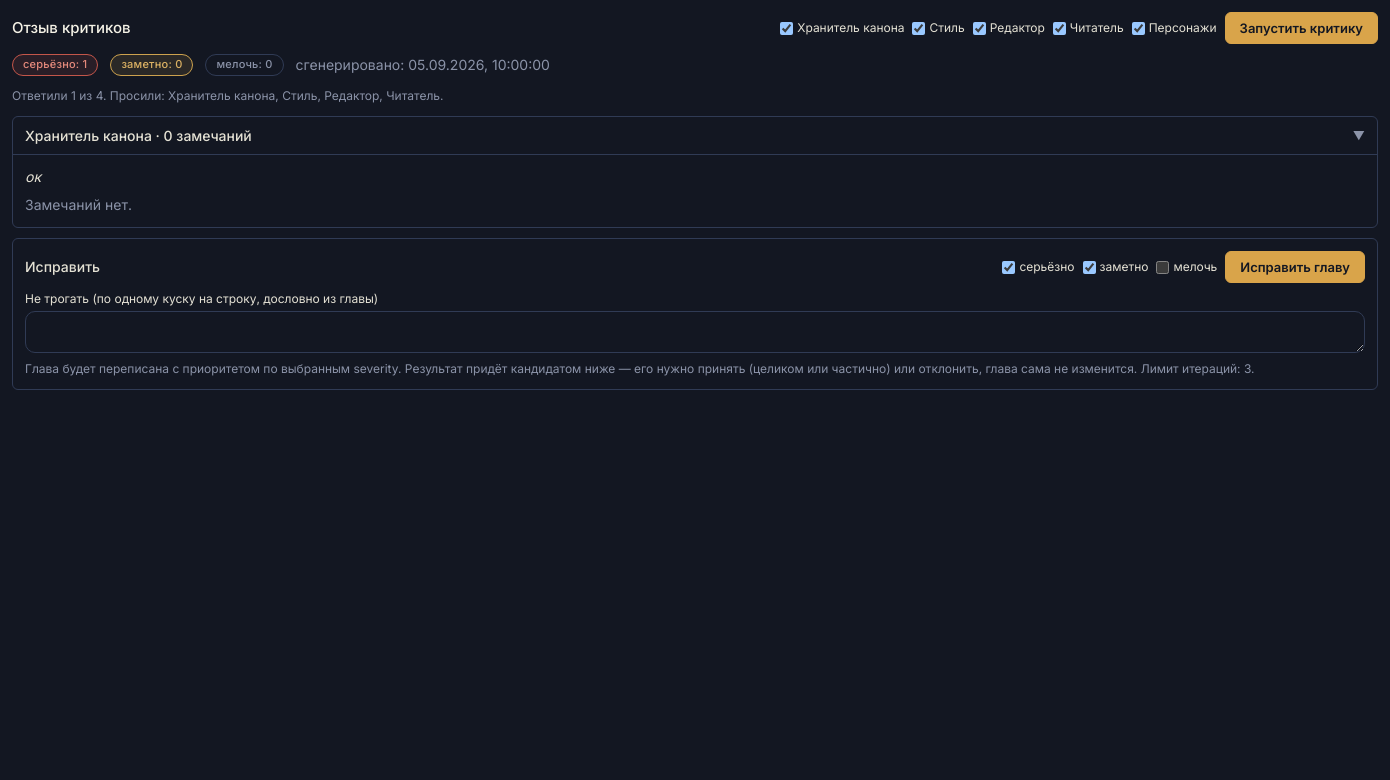
Test: CritiquePanel — правка: привязка кандидата › fetches the repair candidate's own change list instead of showing an empty diff
The width and height of the screenshot is (1390, 780).
Click the button "Исправить главу".
click(1295, 267)  # box [1225,251,1365,283]
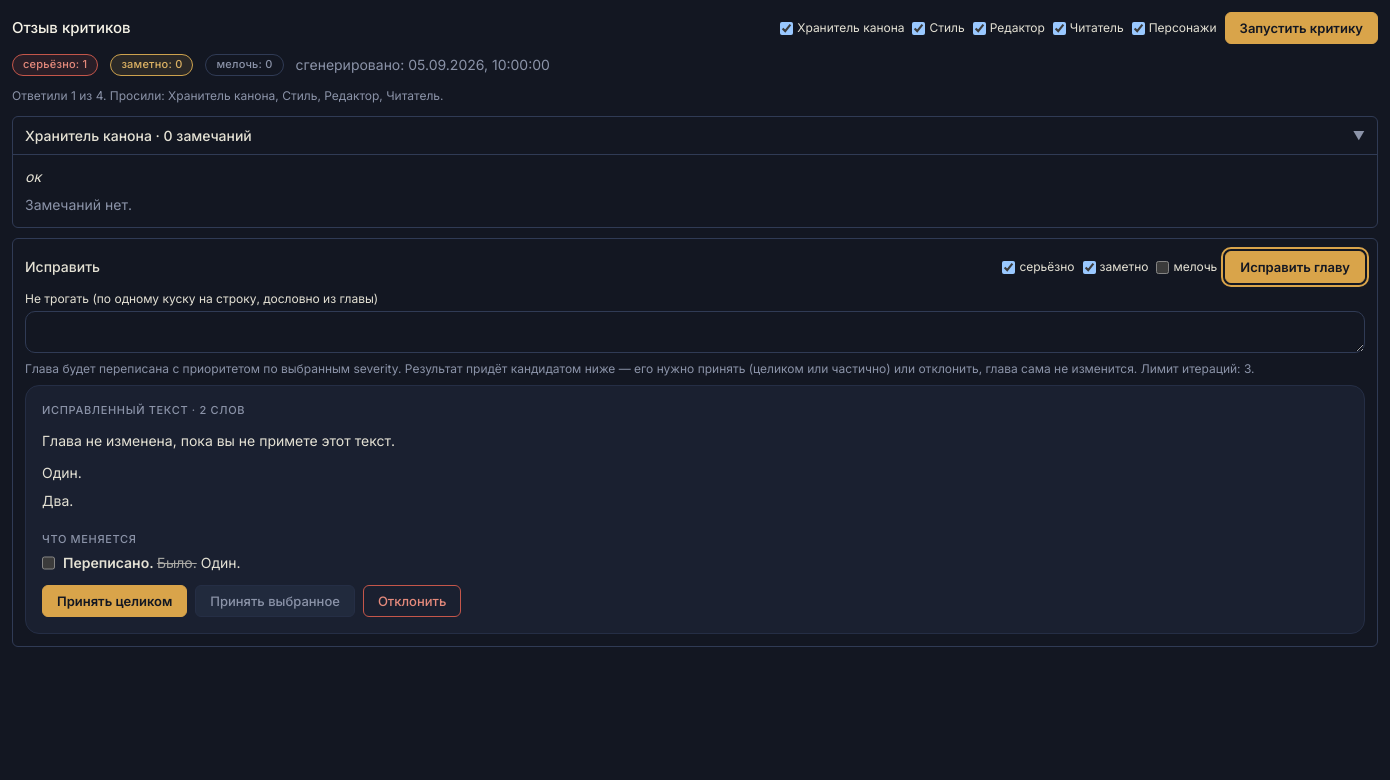
Expected: the text "Что меняется" is shown, [42,532,136,546]
Expected: the checkbox labelled "Переписано. Было. Один." is shown, [42,553,55,573]
